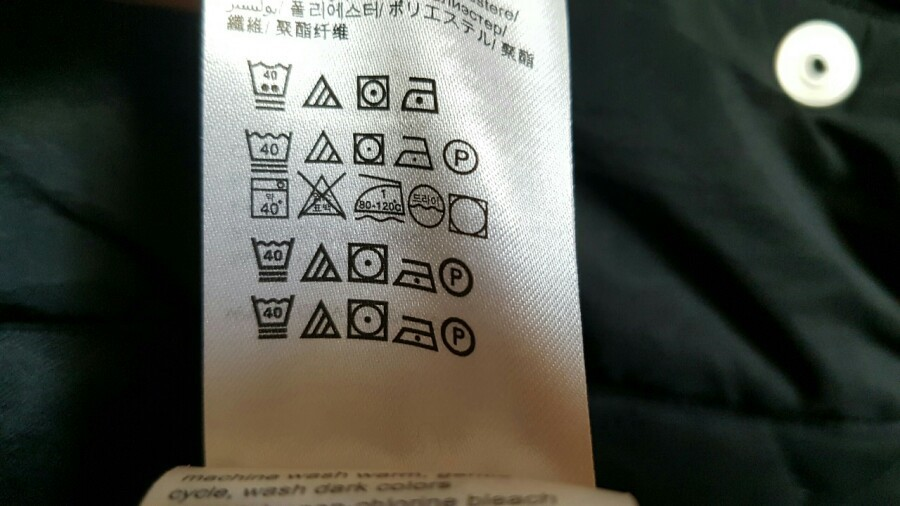ER_dry_clean_chemical: (437, 250, 477, 303), (439, 312, 479, 359), (441, 136, 480, 177)
ER_iron_low_temp: (397, 70, 443, 119), (392, 252, 438, 300), (394, 311, 440, 359), (391, 129, 436, 175)
ER_non_chlorine_bleach: (300, 240, 344, 288), (300, 68, 347, 112), (301, 126, 346, 171), (300, 294, 341, 343)
ER_tumble_dry_low_heat: (344, 290, 392, 348), (345, 235, 392, 289), (353, 68, 395, 116), (352, 128, 387, 169)
ER_wash_40_mild: (245, 55, 294, 115), (243, 123, 294, 175), (248, 234, 296, 287), (249, 289, 295, 344)
KR_dry_clean: (405, 180, 447, 231)
KR_iron_low_temp_with_cloth: (348, 168, 407, 226)
KR_no_chlorine_bleach: (298, 171, 351, 223)
KR_tumble_dry: (445, 187, 494, 242)
KR_wash_warm_40: (246, 173, 294, 223)
